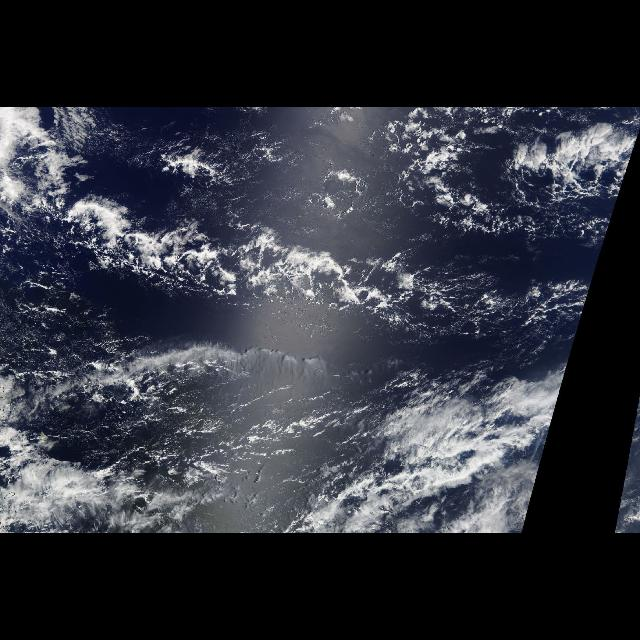Fish: (6, 332, 330, 402), (331, 438, 527, 514)
